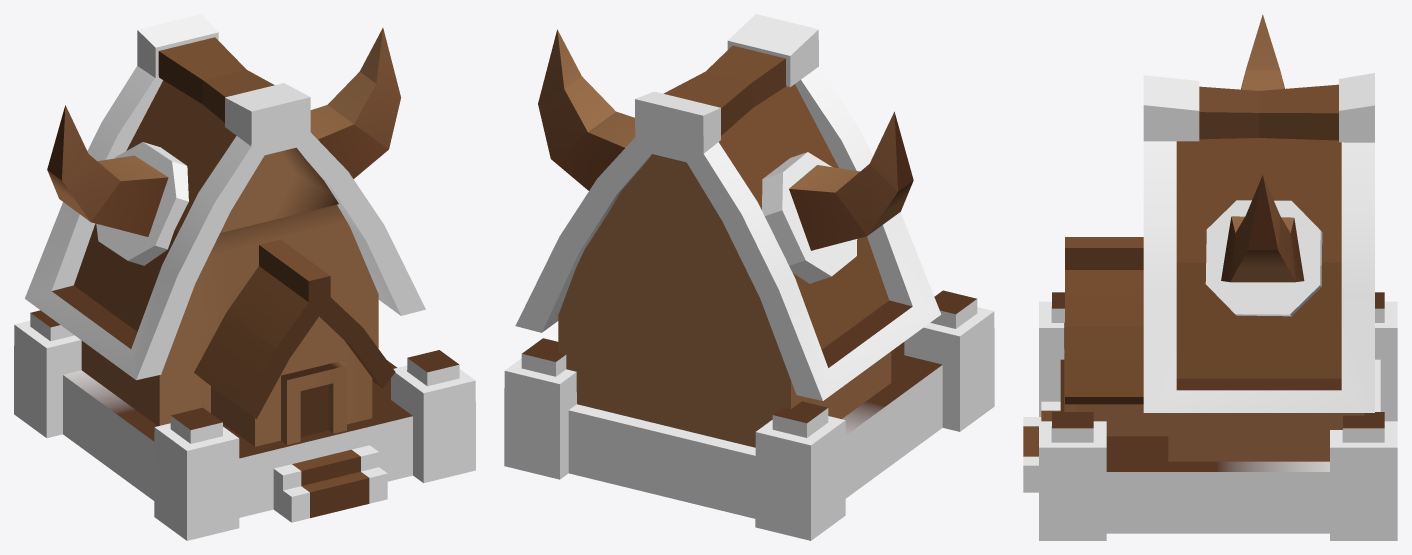
The model's file is Building_CityHall_Lv9.fbx.
The picture shows the model from 3 angles, left to right: view 1: azimuth 30°, elevation 25°; view 2: azimuth 150°, elevation 25°; view 3: azimuth 270°, elevation 25°; orthographic projection. The views are drawn at different scales.
Visible parts, largest first — view 1: Building_CityHall_Lv9; view 2: Building_CityHall_Lv9; view 3: Building_CityHall_Lv9.
Boxes of the visible parts, x1,y1,x2,y2 form: Building_CityHall_Lv9: [14, 14, 475, 540]; Building_CityHall_Lv9: [504, 14, 994, 540]; Building_CityHall_Lv9: [1023, 14, 1397, 540].
Bounding box in the file's own units: 1.08 × 1.11 × 0.9905.
